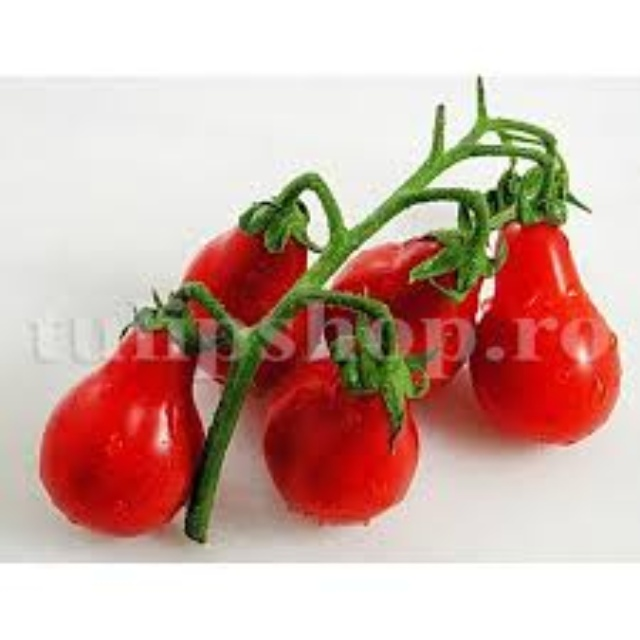tomato: (32, 325, 209, 532), (483, 215, 620, 453), (329, 238, 480, 386), (188, 218, 308, 391), (273, 373, 412, 519)
